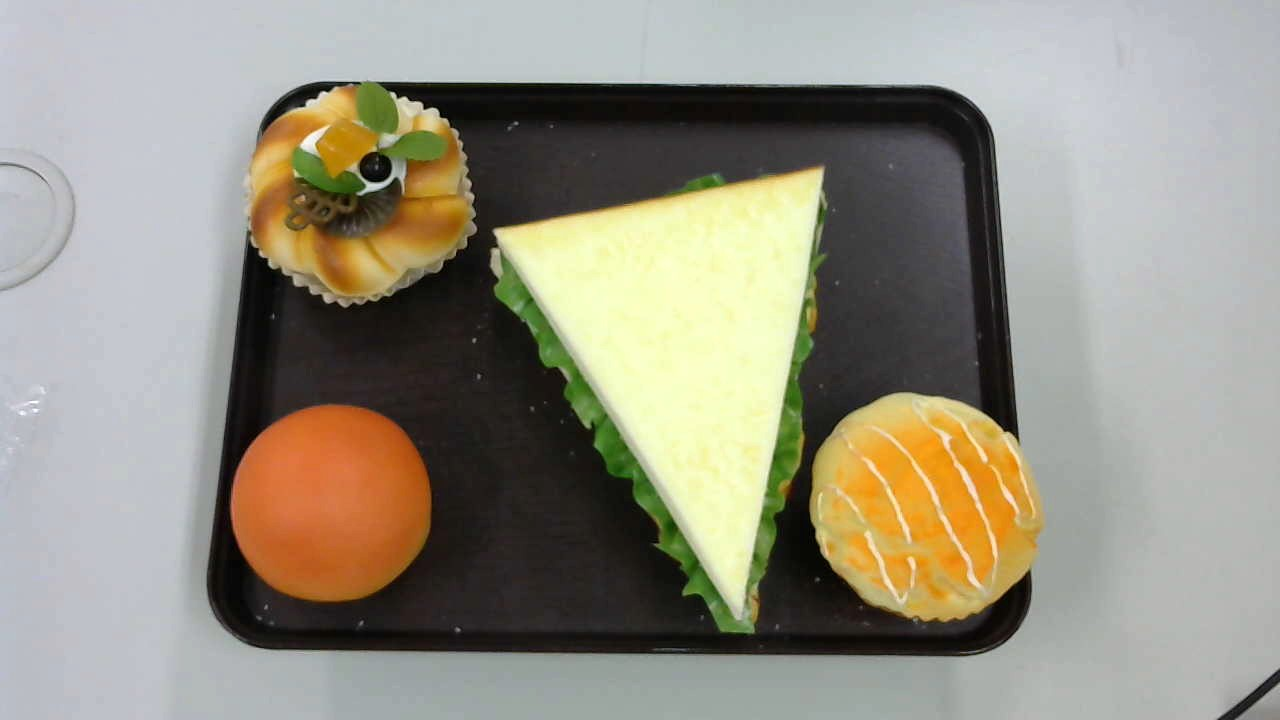bun: (230, 401, 432, 605)
cupcake: (808, 391, 1045, 627)
fruit tart: (243, 82, 476, 307)
sandwich: (488, 163, 825, 636)
